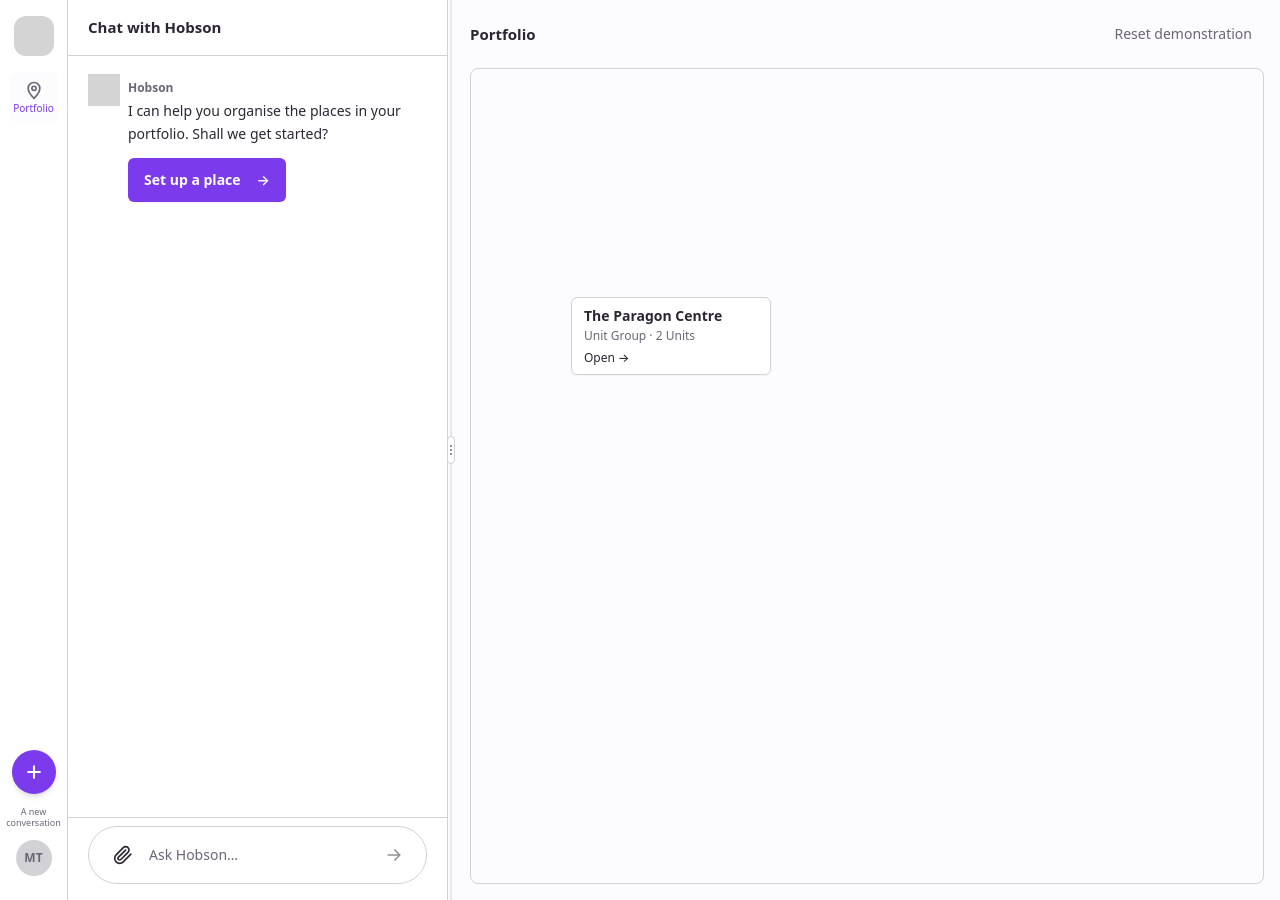
Test: The Paragon Centre in place › invents no tenant for the Second Floor Flat
Click the button with aria-label "Open The Paragon Centre" at (671, 336), box x1=571 y1=297 x2=771 y2=375
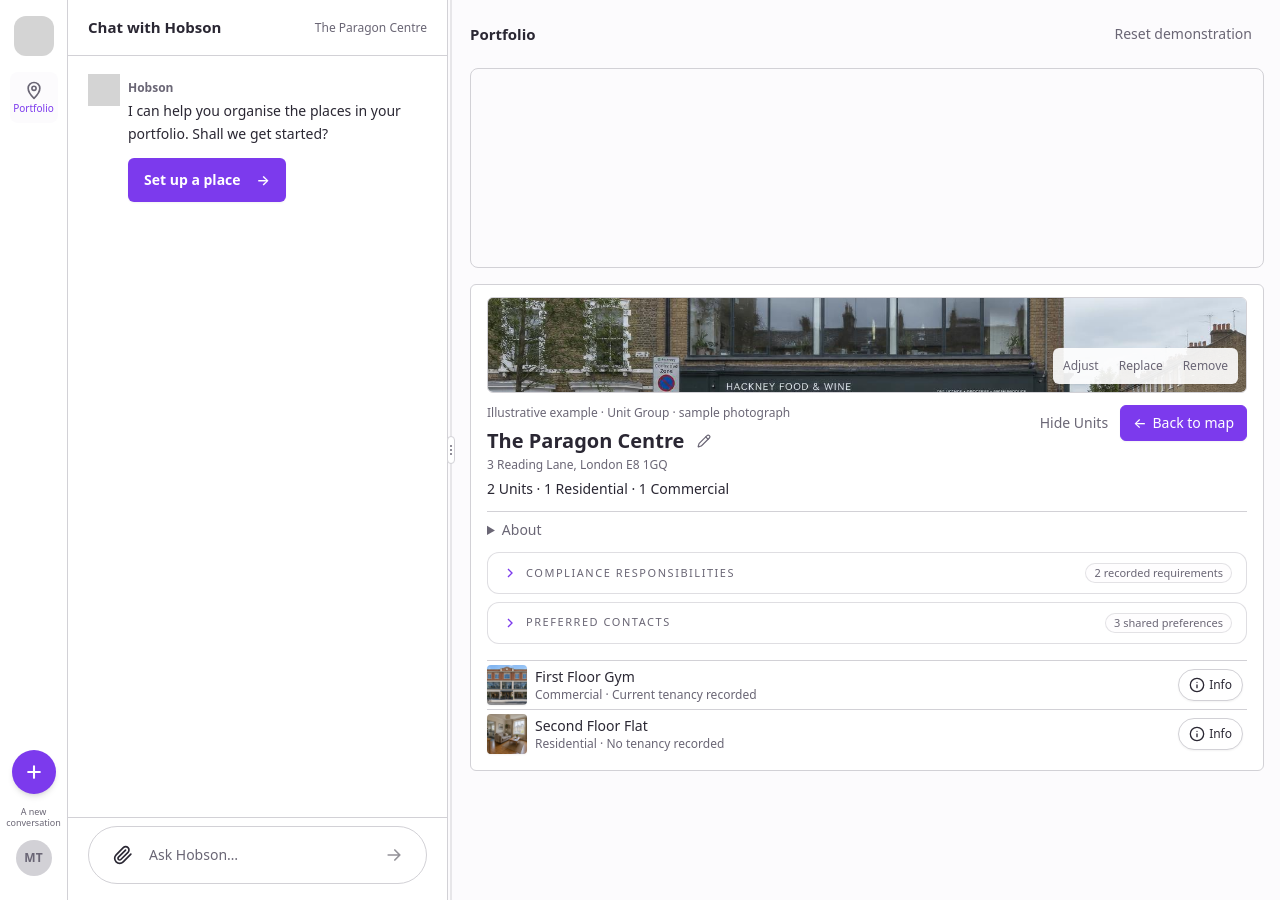
Click the button with aria-label "What Hobson knows about Second Floor Flat" at (1211, 734), box x1=1178 y1=718 x2=1243 y2=750
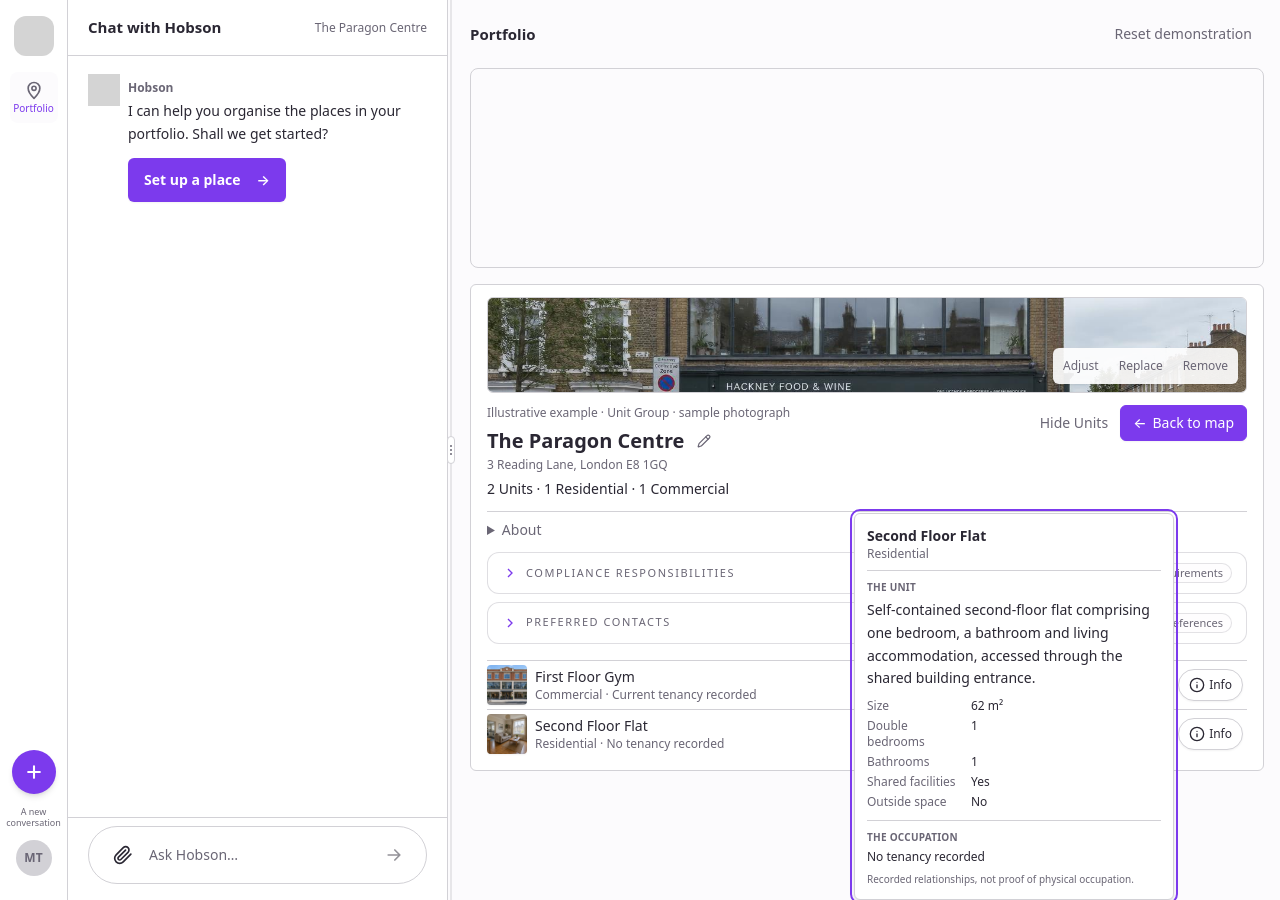
Expected: the text "No tenancy recorded" is shown, x1=867 y1=848 x2=985 y2=865
